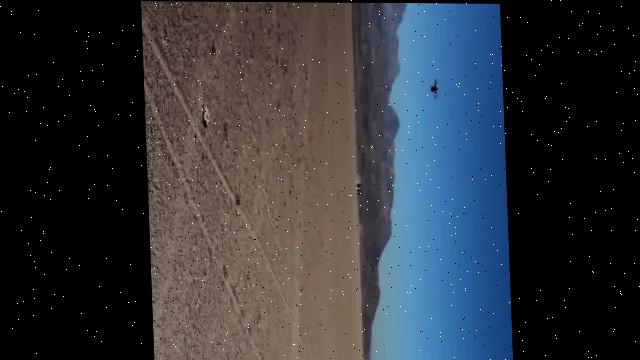drone: (427, 77, 442, 100)
